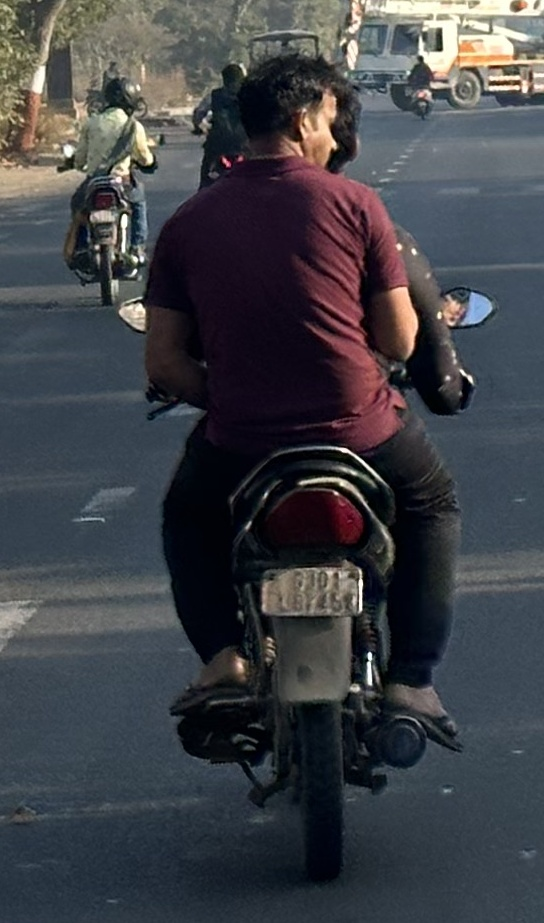BikeWithRider: (112, 43, 503, 896), (63, 64, 158, 311), (396, 51, 444, 123)
Helmet: (98, 69, 146, 122)
NoHelmet: (230, 56, 350, 185), (283, 56, 375, 175)
